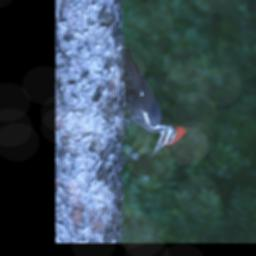Woodpecker: (119, 41, 186, 161)
